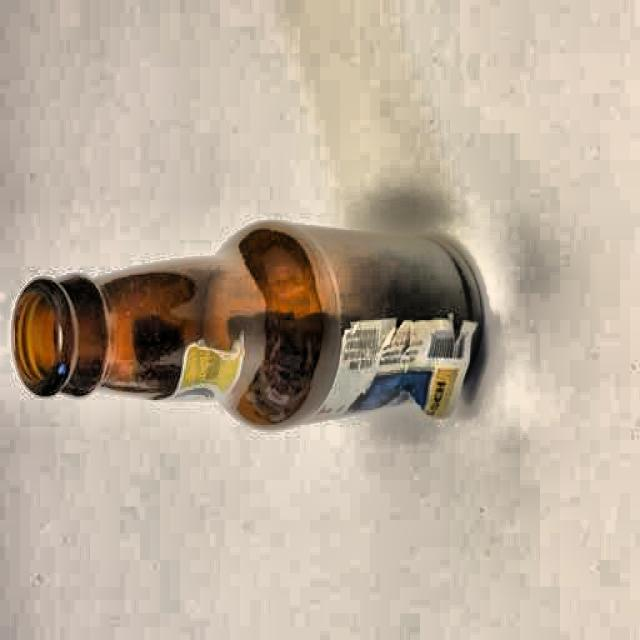glass: (2, 208, 491, 434)
